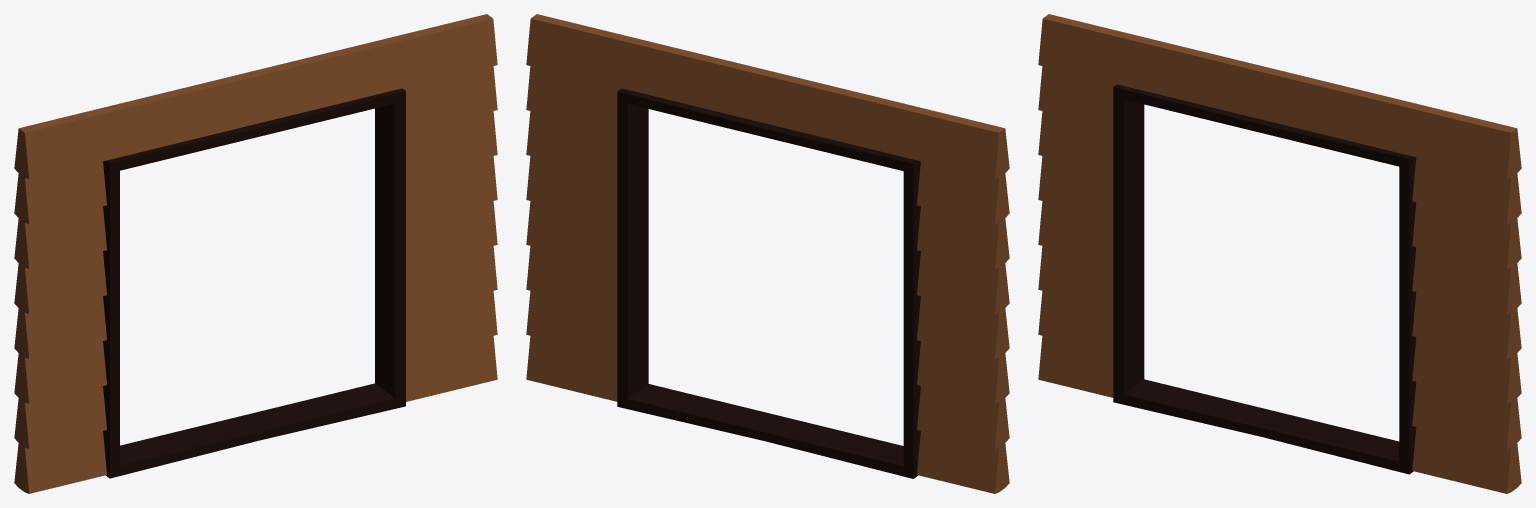
File: ww_wall_door_a.glb
3 renders of one model, left to right at view 1: azimuth 30°, elevation 25°; view 2: azimuth 150°, elevation 25°; view 3: azimuth 330°, elevation 25°, orthographic.
Visible parts, largest first — view 1: Wall_Door_A; view 2: Wall_Door_A; view 3: Wall_Door_A.
Part boxes in pixels (x1,y1,x2,y2): Wall_Door_A: [14, 14, 497, 493]; Wall_Door_A: [526, 14, 1009, 493]; Wall_Door_A: [1038, 14, 1521, 493].
Bounding box in the file's own units: 4.8 × 3.52 × 0.3744.
